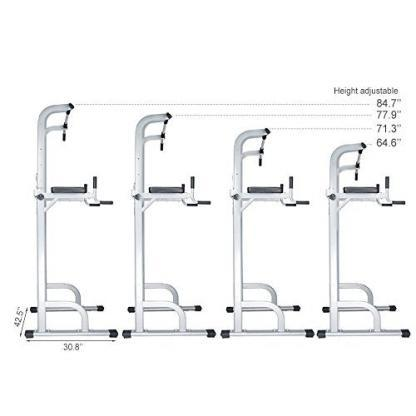chinning dipping: (33, 102, 117, 338)
